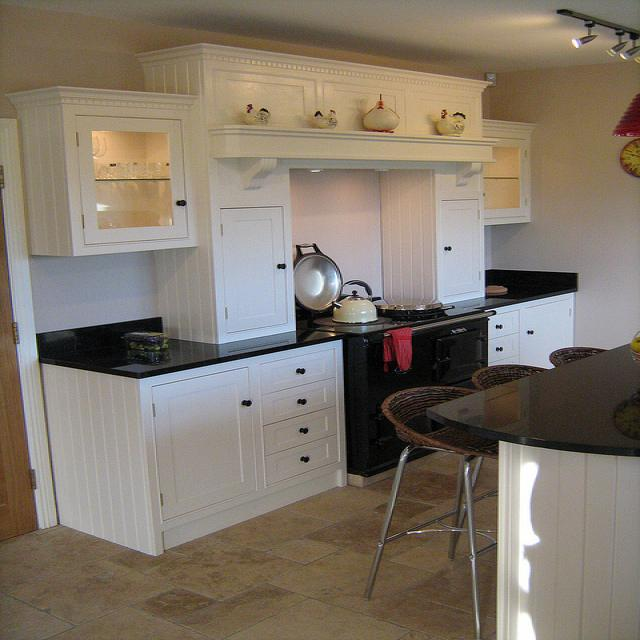chair: (362, 385, 499, 632), (473, 363, 551, 390), (550, 347, 610, 368)
dining table: (427, 341, 640, 463)
